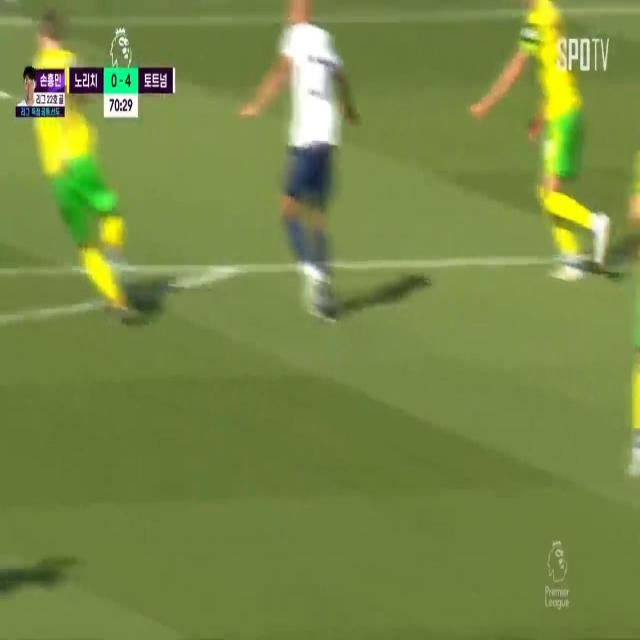player: (25, 0, 145, 352), (251, 0, 354, 334), (501, 0, 610, 290)
